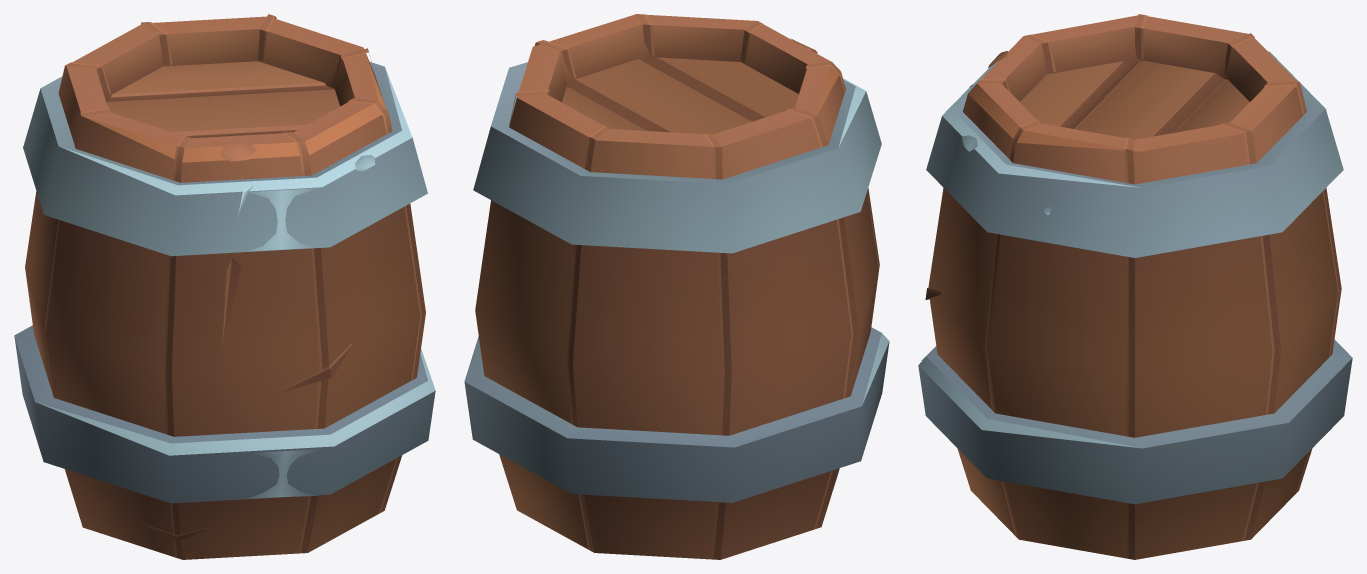
The model's file is barrel.glb.
3 views of the same model, side by side, from view 1: azimuth 30°, elevation 25°; view 2: azimuth 150°, elevation 25°; view 3: azimuth 270°, elevation 25° (orthographic).
Visible parts, largest first — view 1: barrel; view 2: barrel; view 3: barrel.
Part boxes in pixels (x1,y1,x2,y2): barrel: (14, 14, 435, 559); barrel: (464, 14, 889, 559); barrel: (918, 14, 1352, 559).
Size of the model in its own units: 0.8219 by 0.8645 by 0.832.
1 material, 1 textured.
